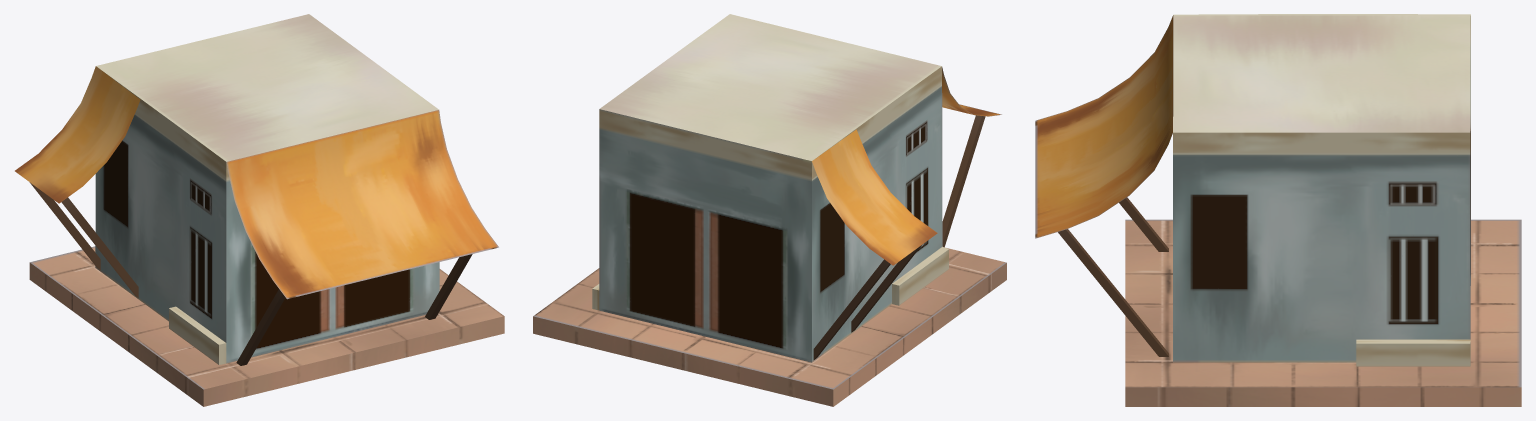
The model's file is restaurant01.fbx.
3 renders of one model, left to right at view 1: azimuth 30°, elevation 25°; view 2: azimuth 150°, elevation 25°; view 3: azimuth 270°, elevation 25°, orthographic. The views are drawn at different scales.
Visible parts, largest first — view 1: Restaurant01; view 2: Restaurant01; view 3: Restaurant01.
Boxes of the visible parts, x1=… form: Restaurant01: x1=15, y1=14, x2=504, y2=406; Restaurant01: x1=533, y1=14, x2=1006, y2=406; Restaurant01: x1=1035, y1=14, x2=1521, y2=406.
Size of the model in its own units: 512 by 317 by 559.
1 material, 1 textured.
